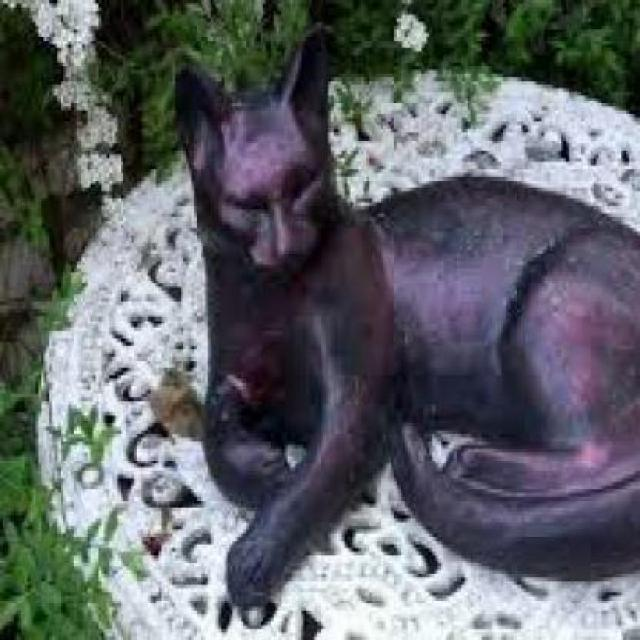animals: (151, 30, 637, 636)
